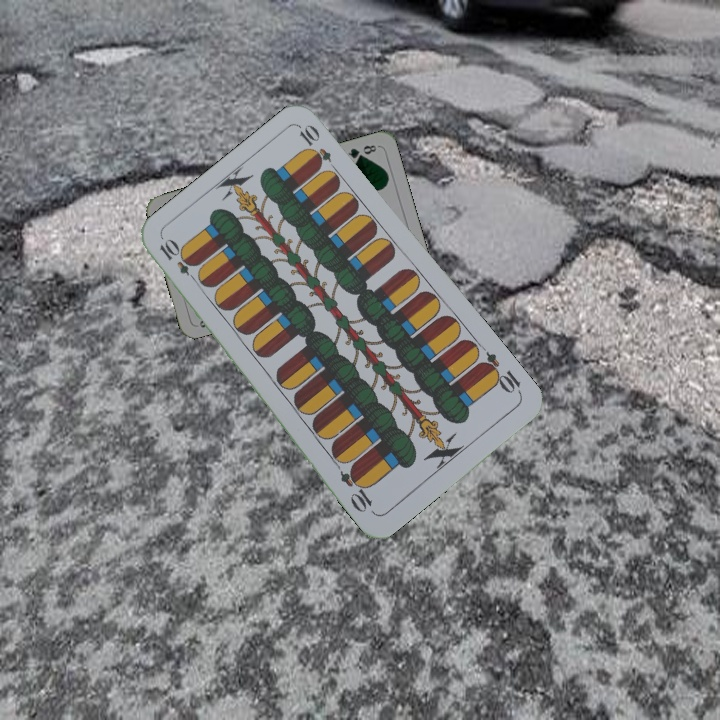E10: (475, 348, 525, 398), (155, 235, 202, 286)
G8: (344, 141, 381, 161)
